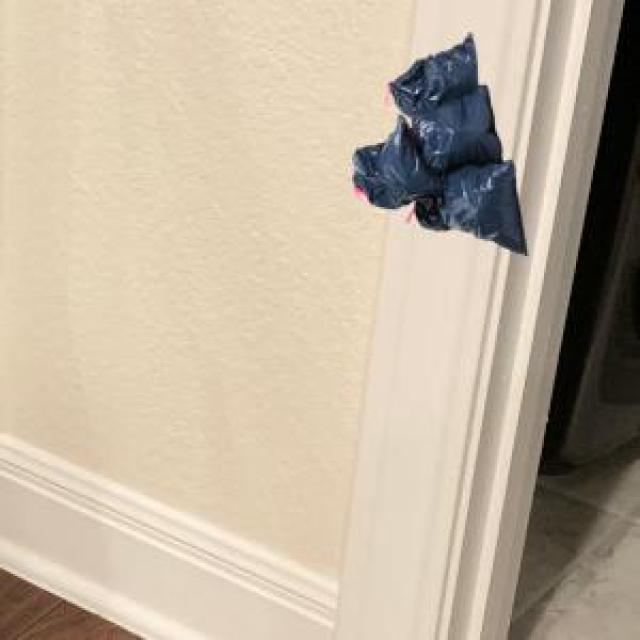miscellaneous trash: (348, 30, 522, 252)
